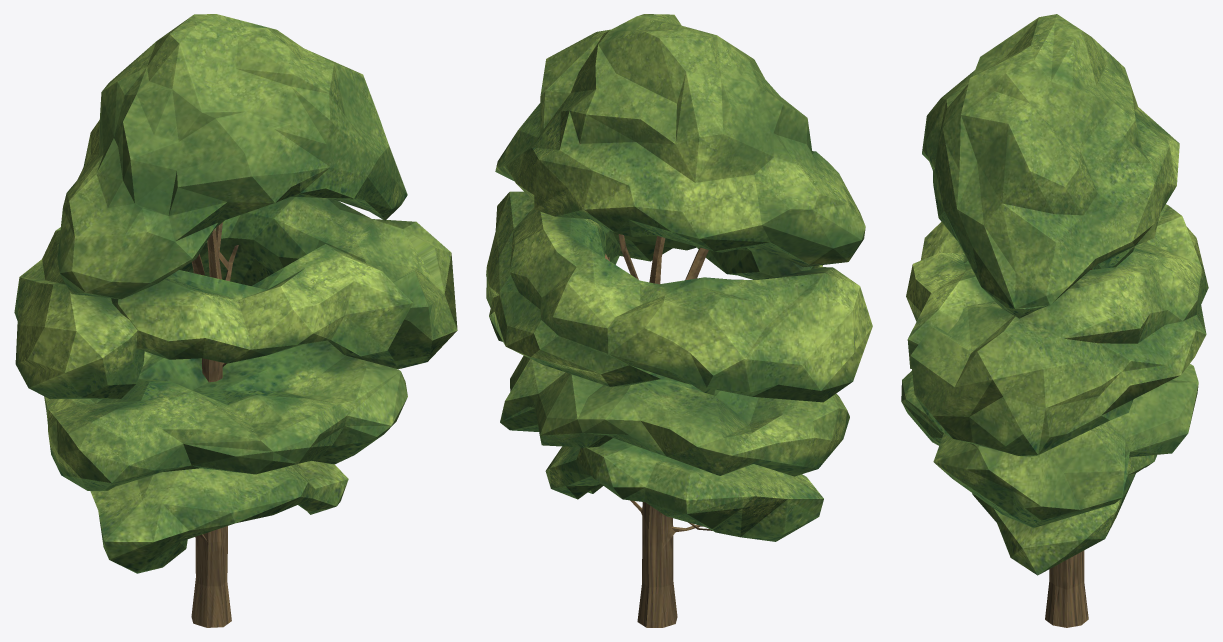
Rendered from ElmTree.gltf.
3 renders of one model, left to right at view 1: azimuth 30°, elevation 25°; view 2: azimuth 150°, elevation 25°; view 3: azimuth 270°, elevation 25°, orthographic. The views are drawn at different scales.
Visible parts, largest first — view 1: node-0; view 2: node-0; view 3: node-0.
Part boxes in pixels (bbox=[...]): node-0: bbox=[14, 14, 457, 627]; node-0: bbox=[486, 14, 872, 627]; node-0: bbox=[901, 14, 1208, 627].
Size of the model in its own units: 14.77 by 21.61 by 10.27.
1 material, 1 textured.
